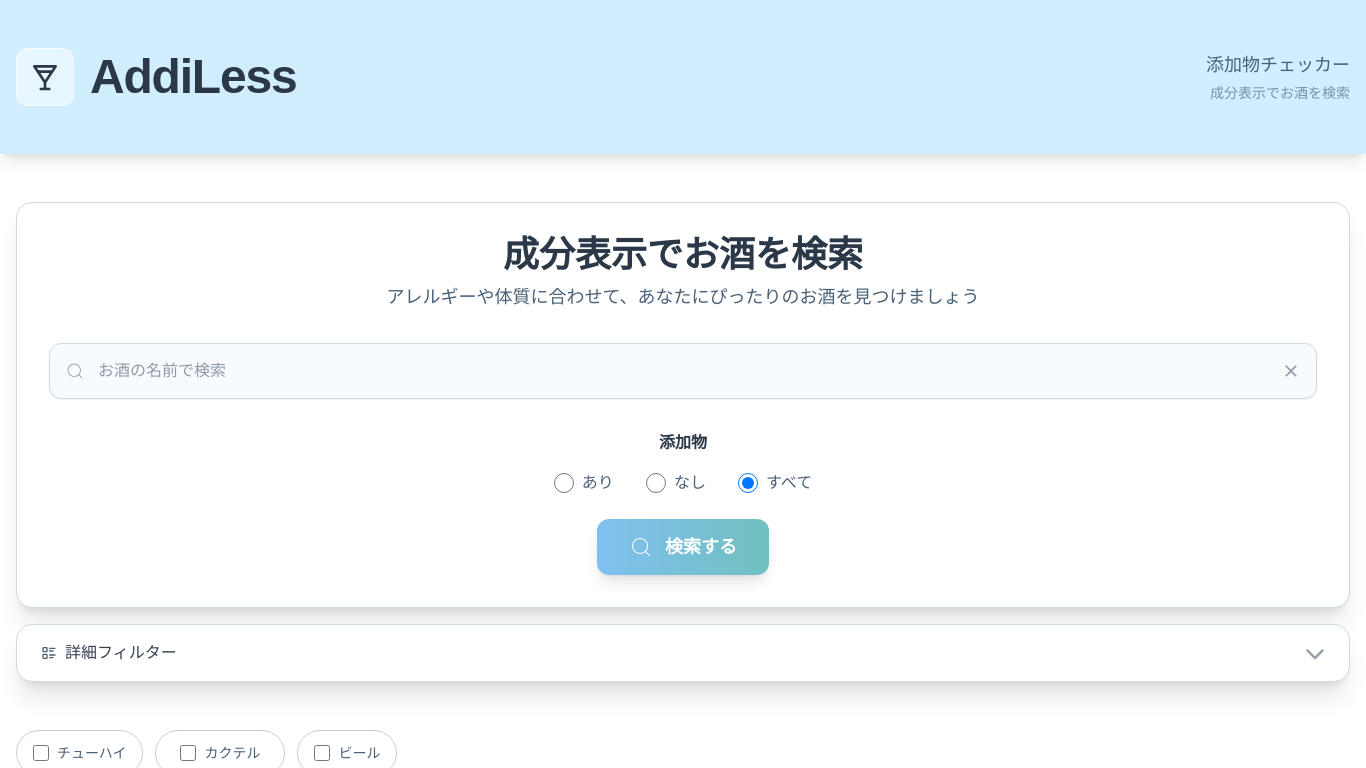
Test: AdditivesSearch › 添加物検索ボックスが表示されている
Click the button with test id "detail_filter_button".
click(121, 652)  # box [17, 625, 1349, 681]
(page scrolled)
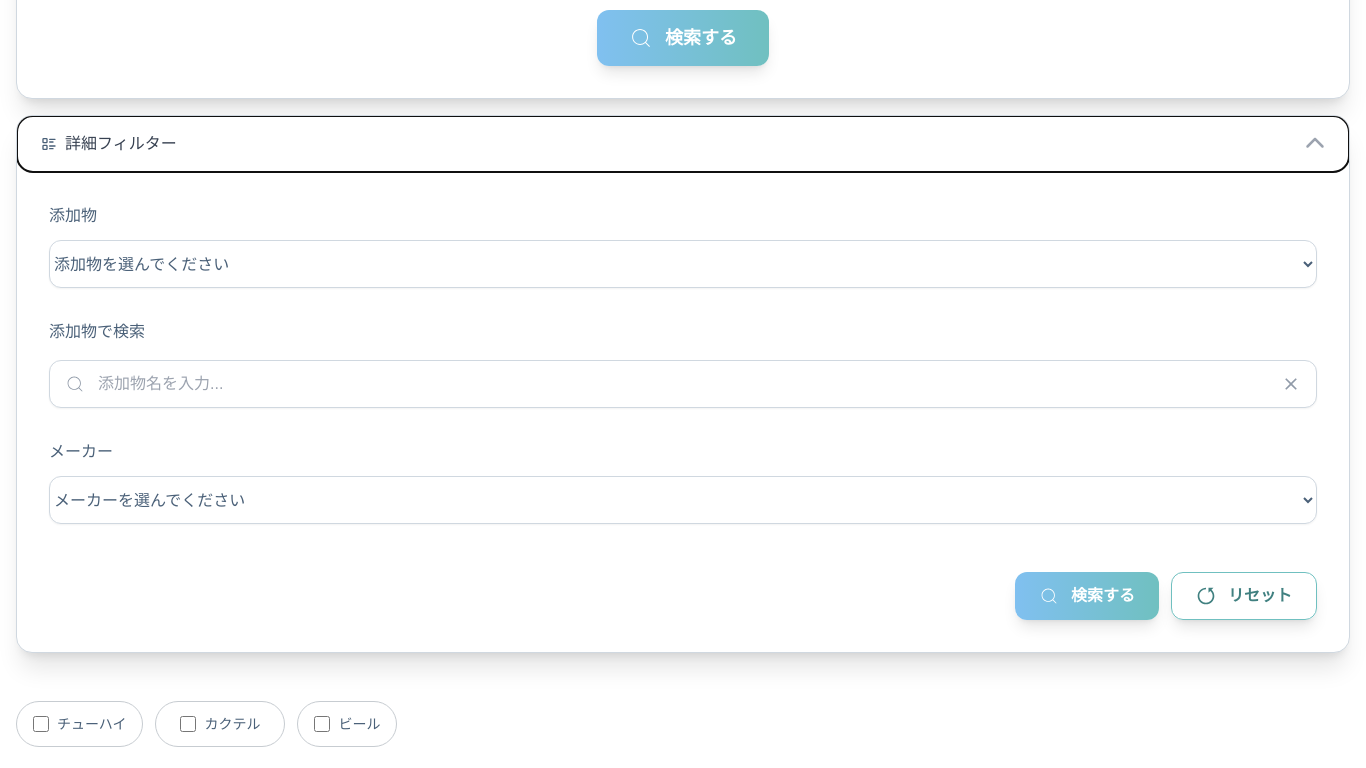
Expected: the field with test id "additives_word" is shown, [49, 360, 1317, 408]
